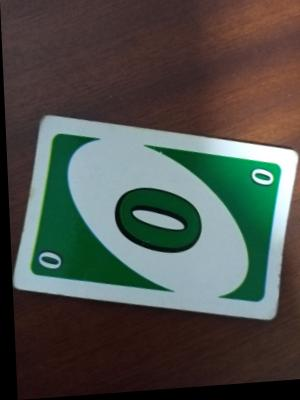green: (45, 121, 153, 293)
num_0: (105, 180, 207, 281), (241, 168, 281, 203), (31, 244, 69, 277)
